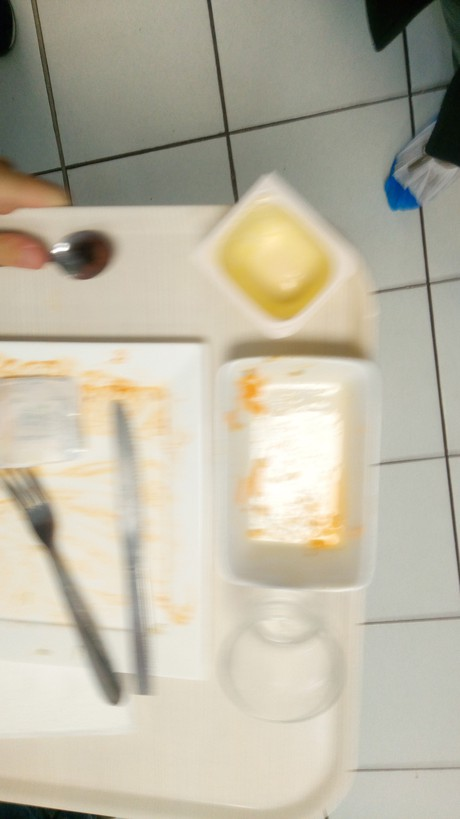trash: (182, 176, 362, 318), (1, 382, 97, 467)
